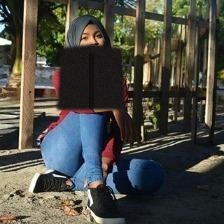Cadar_Niqab: (57, 12, 125, 109)
